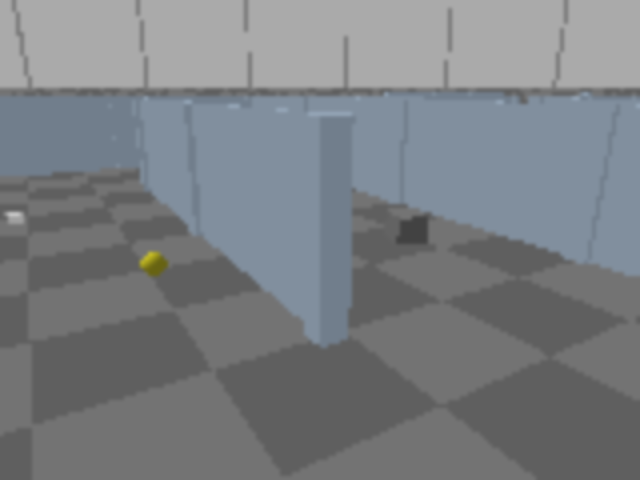obstacle: (385, 208, 429, 245)
puck: (140, 248, 168, 280), (5, 211, 26, 226)
